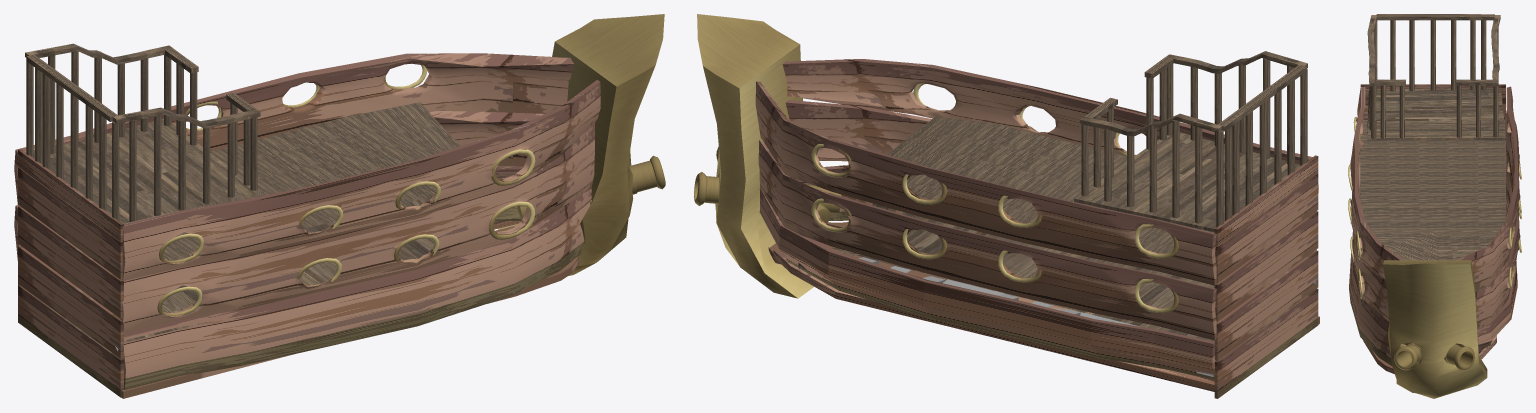
Rendered from boat 3.fbx.
3 renders of one model, left to right at view 1: azimuth 30°, elevation 25°; view 2: azimuth 150°, elevation 25°; view 3: azimuth 270°, elevation 25°, orthographic. The views are drawn at different scales.
Visible parts, largest first — view 1: pPlane15, pPlane24, pPlane23, pPlane25, pCube1, pPlane22, pPlane18, pCube33, pCube32, pCube34, pCube5, pPlane21 (+24 smaller); view 2: pPlane25, pPlane21, pPlane7, pCube1, pPlane24, pPlane22, pPlane18, pPlane23, pCube33, pPlane19, pCube34, pCube32 (+23 smaller); view 3: pPlane22, pCube1, pPlane18, pPlane25, pPlane24, pPlane21, pPlane15, pPlane23, pPlane7, pCube30, cannon:pCylinder1, pCylinder1 (+19 smaller).
Boxes of the visible parts, box(x1,y1,x2,y2) form: pPlane15: box(122, 189, 591, 389); pPlane24: box(122, 80, 600, 280); pPlane23: box(119, 122, 595, 333); pPlane25: box(14, 53, 574, 204); pCube1: box(498, 14, 664, 275); pPlane22: box(122, 102, 499, 273); pPlane18: box(33, 118, 260, 223); pCube33: box(18, 246, 123, 358); pCube32: box(18, 206, 123, 318); pCube34: box(18, 285, 123, 397); pCube5: box(18, 167, 122, 279); pPlane21: box(14, 110, 544, 260); pPlane25: box(755, 81, 1216, 285); pPlane21: box(758, 140, 1216, 340); pPlane7: box(759, 188, 1215, 379); pCube1: box(697, 14, 813, 298); pPlane24: box(782, 59, 1318, 192); pPlane22: box(886, 116, 1214, 253); pPlane18: box(1074, 132, 1300, 232); pPlane23: box(785, 100, 1316, 252); pCube33: box(1214, 250, 1318, 360); pPlane19: box(830, 211, 1216, 341); pCube34: box(1214, 288, 1318, 398); pCube32: box(1214, 211, 1318, 321); pPlane22: box(1360, 119, 1506, 260); pCube1: box(1383, 260, 1487, 398); pPlane18: box(1367, 88, 1505, 140); pPlane25: box(1456, 86, 1520, 290); pPlane24: box(1350, 87, 1403, 279); pPlane21: box(1475, 153, 1520, 327); pPlane15: box(1349, 231, 1411, 365); pPlane23: box(1352, 162, 1389, 321); pPlane7: box(1477, 192, 1517, 353); pCube30: box(1376, 14, 1494, 20); cannon:pCylinder1: box(1444, 344, 1474, 370); pCylinder1: box(1394, 343, 1421, 370).
Size of the model in its own units: 40.08 by 19.28 by 14.43.
